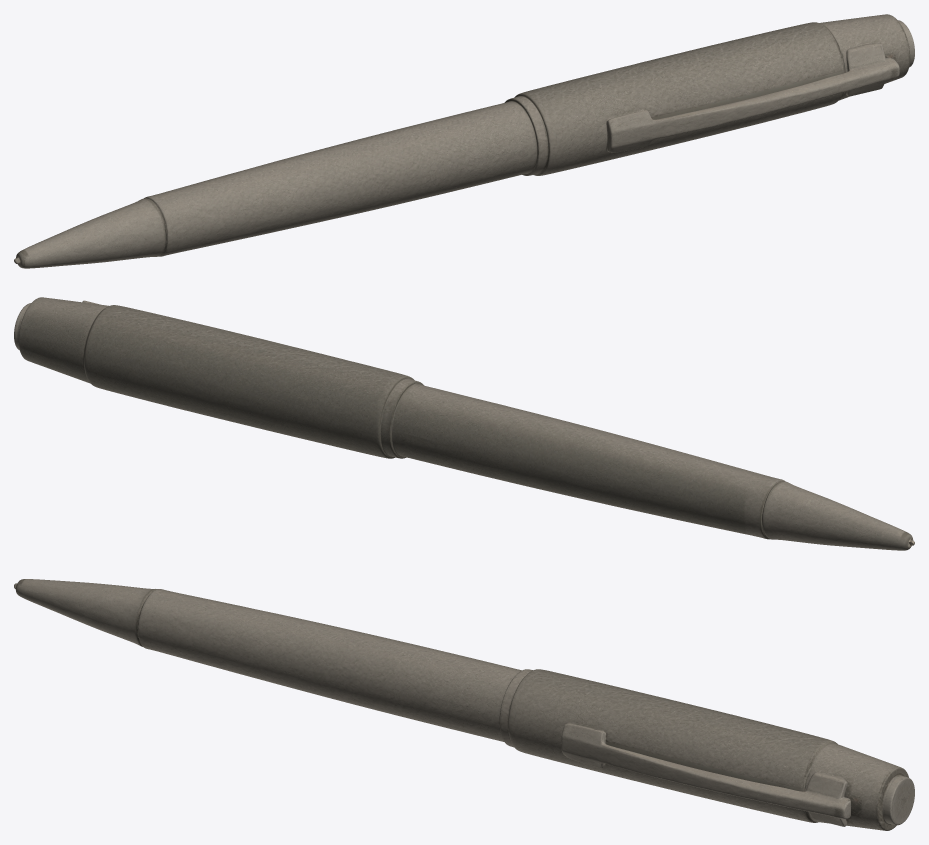
The model's file is pen-fullsilver.glb.
3 renders of one model, top to bottom at view 1: azimuth 30°, elevation 25°; view 2: azimuth 150°, elevation 25°; view 3: azimuth 330°, elevation 25°, orthographic.
Size of the model in its own units: 1.91 by 0.1625 by 0.1966.
1 material, 1 textured.
